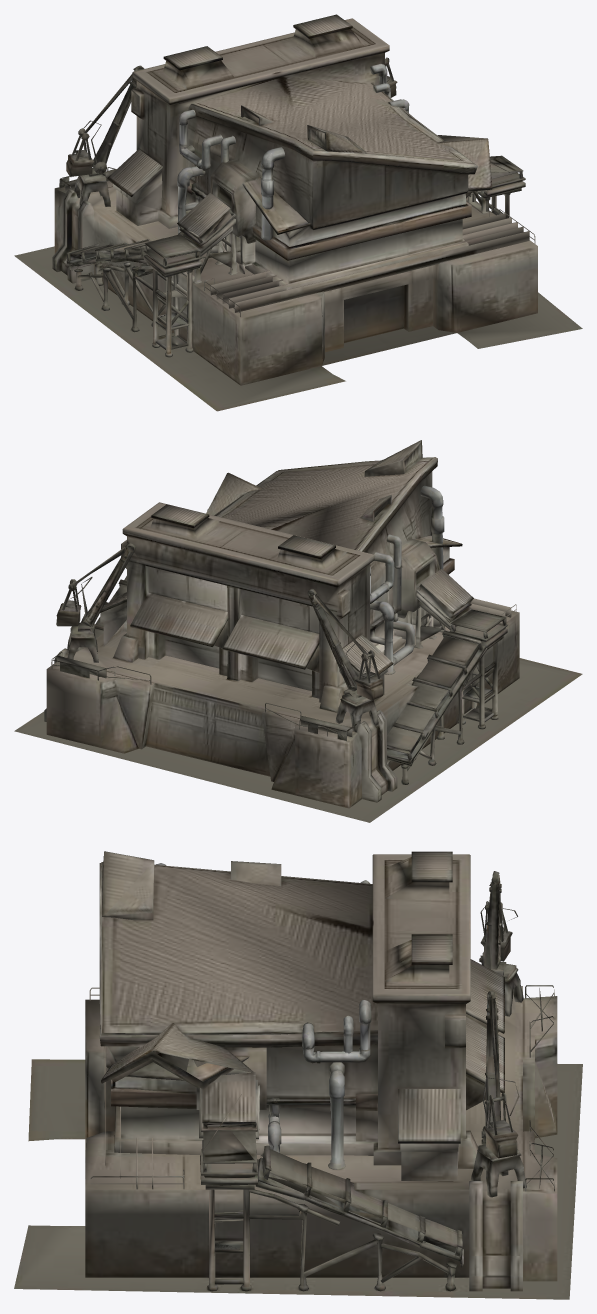
The model's file is naval_yard.glb.
3 views of the same model, one above another, from view 1: azimuth 30°, elevation 25°; view 2: azimuth 150°, elevation 25°; view 3: azimuth 270°, elevation 25° (orthographic). The views are drawn at different scales.
Parts seen in each view (by area): view 1: Body; view 2: Body; view 3: Body.
Boxes of the visible parts, left/top/right/bottom form: Body: left=14, top=14, right=582, bottom=411; Body: left=14, top=440, right=582, bottom=822; Body: left=14, top=851, right=582, bottom=1299.
Bounding box in the file's own units: 9.22 × 5.29 × 9.22.
Materials: 1 (1 with a texture image).
